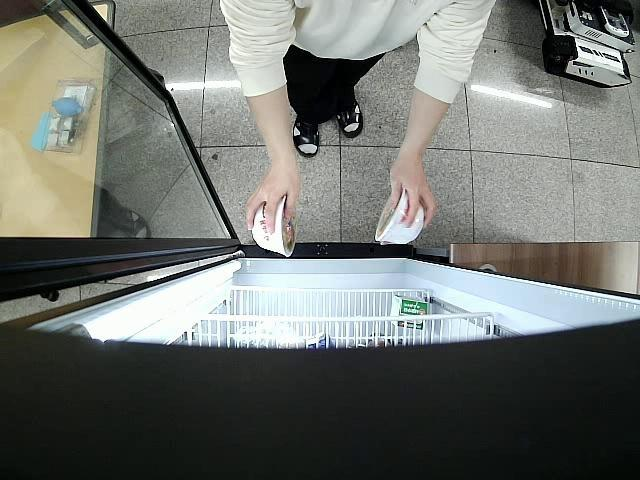09_yukGaeJang: (374, 190, 426, 245), (253, 196, 296, 257)
